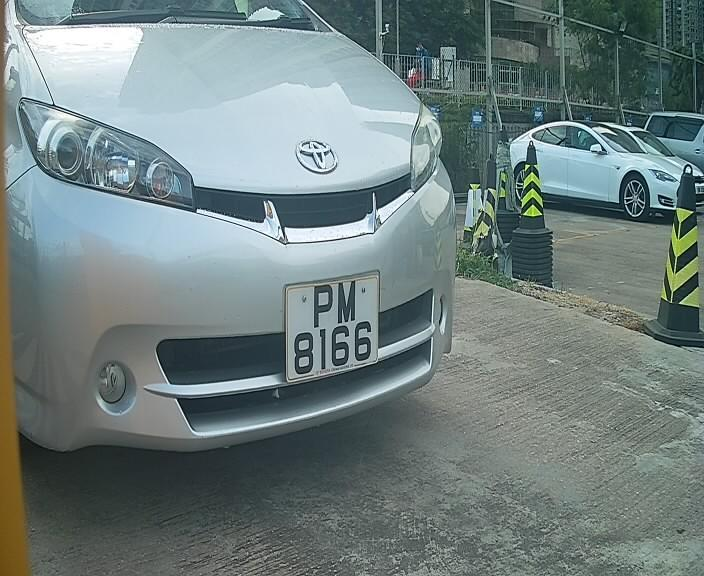privatecar: (16, 16, 472, 463)
